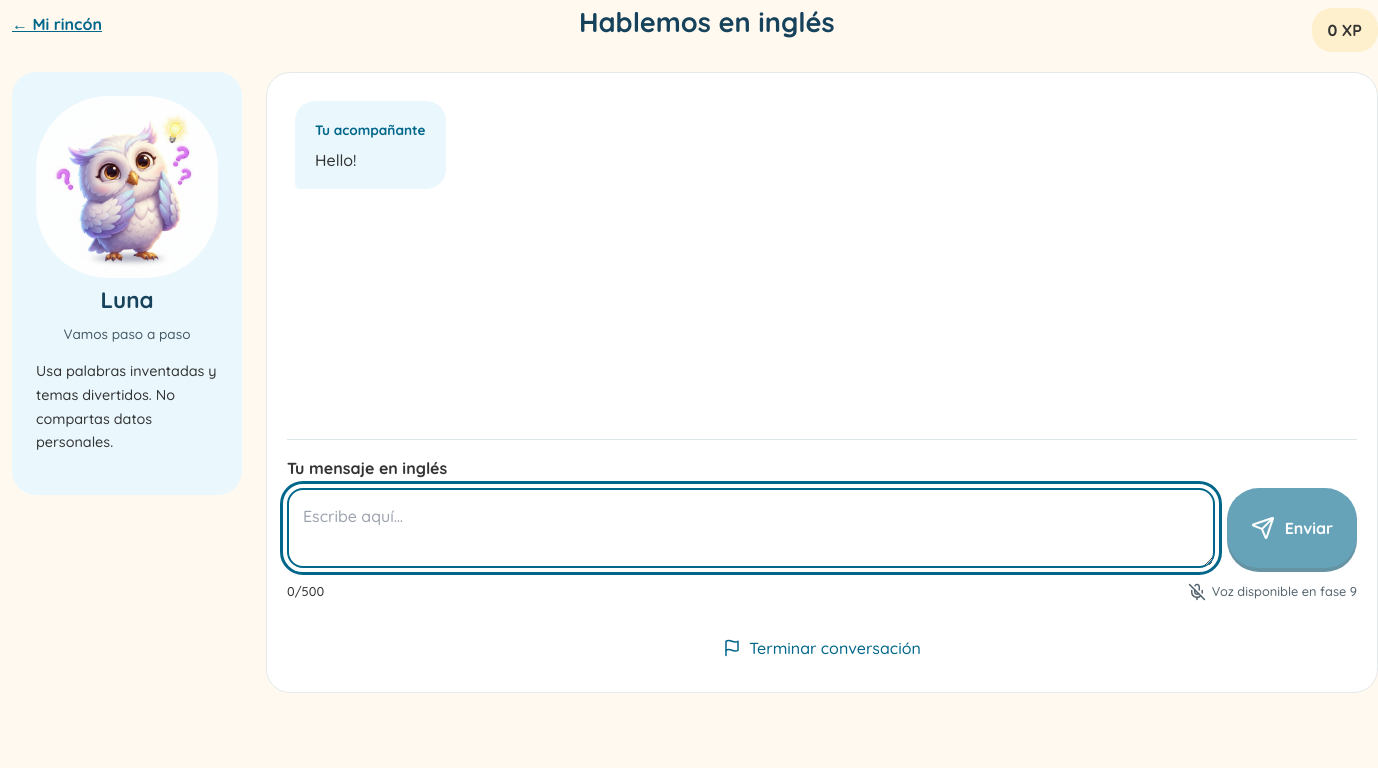
Test: conversation boundaries › logout removes every pending key and invalidates a late response
In the text box labelled "Tu mensaje en inglés": (751, 528) [287,488,1215,568], type "dog"
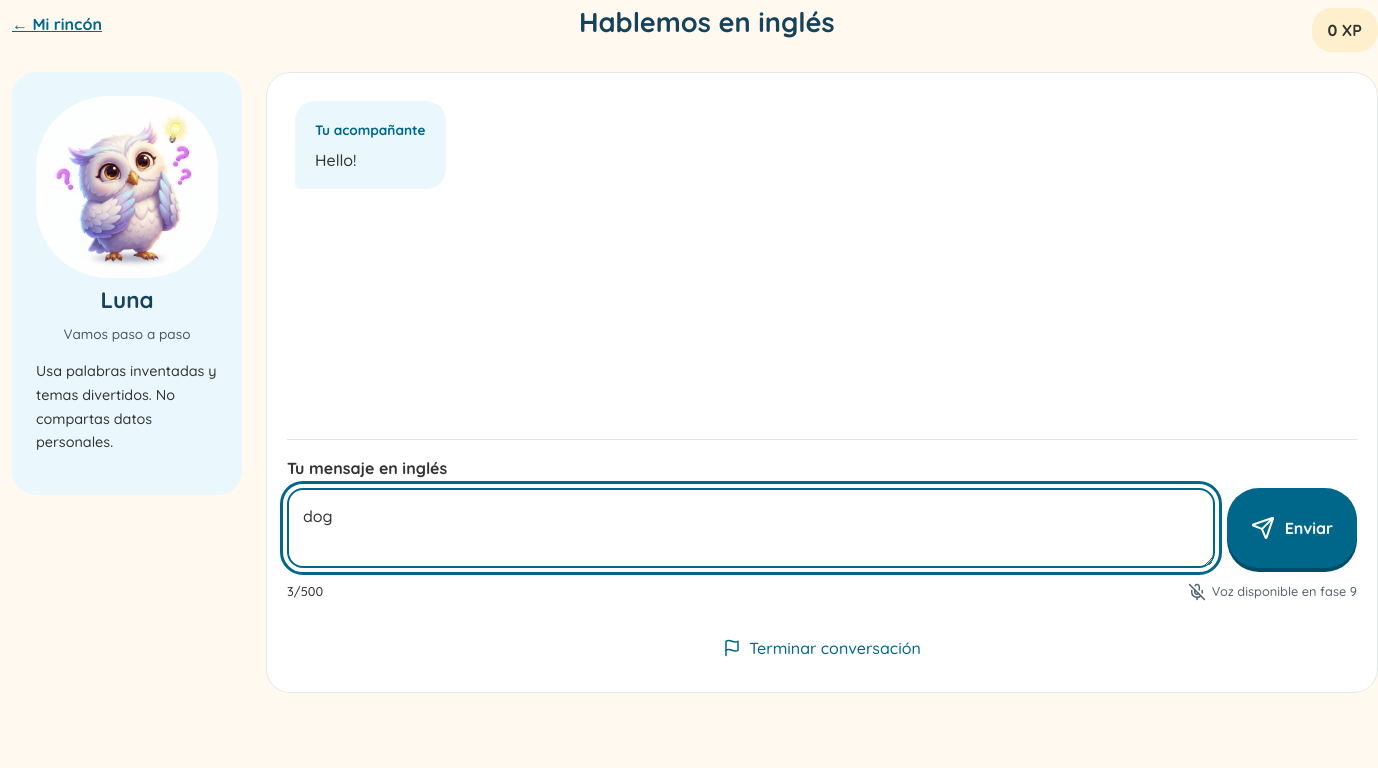
Click the button with aria-label "Enviar mensaje": (1292, 528) [1227,488,1357,568]
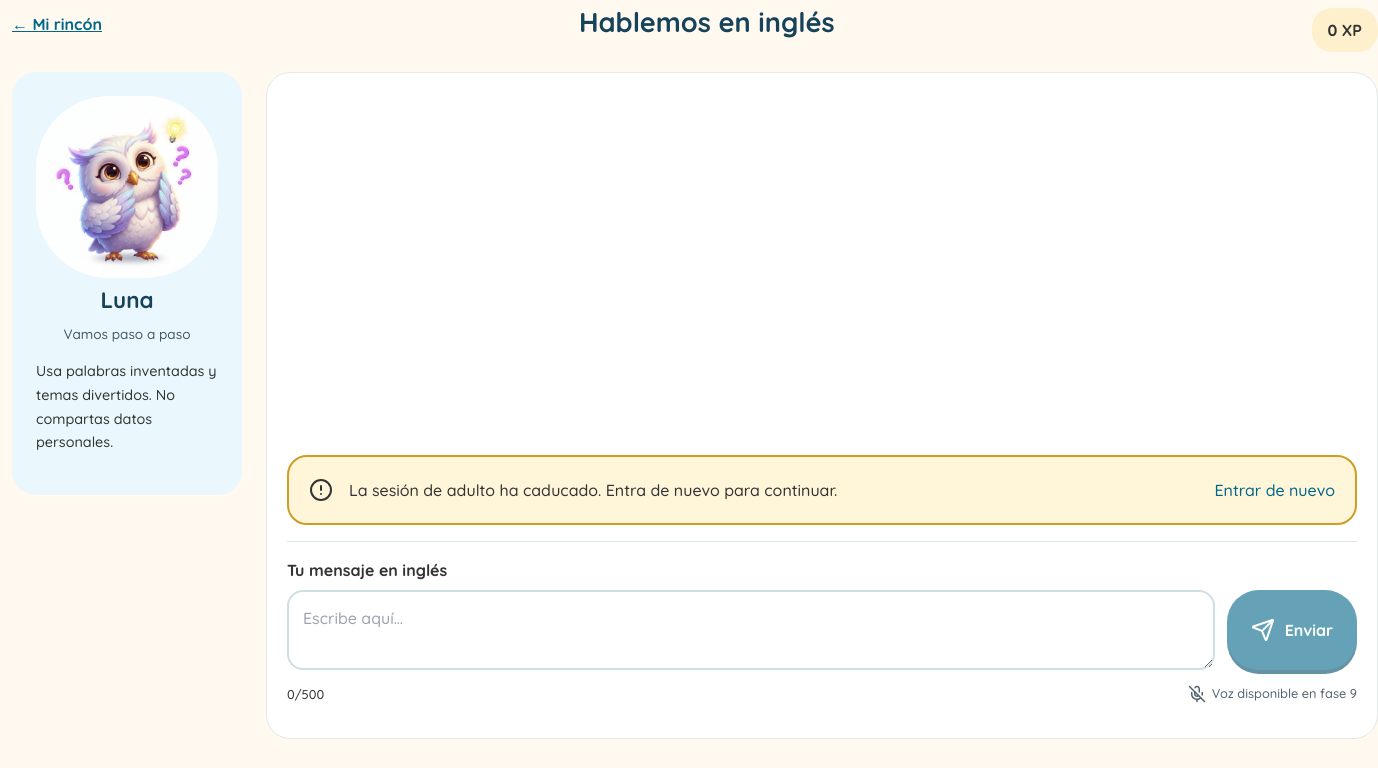
Expected: no elements with class "bubble" are shown
